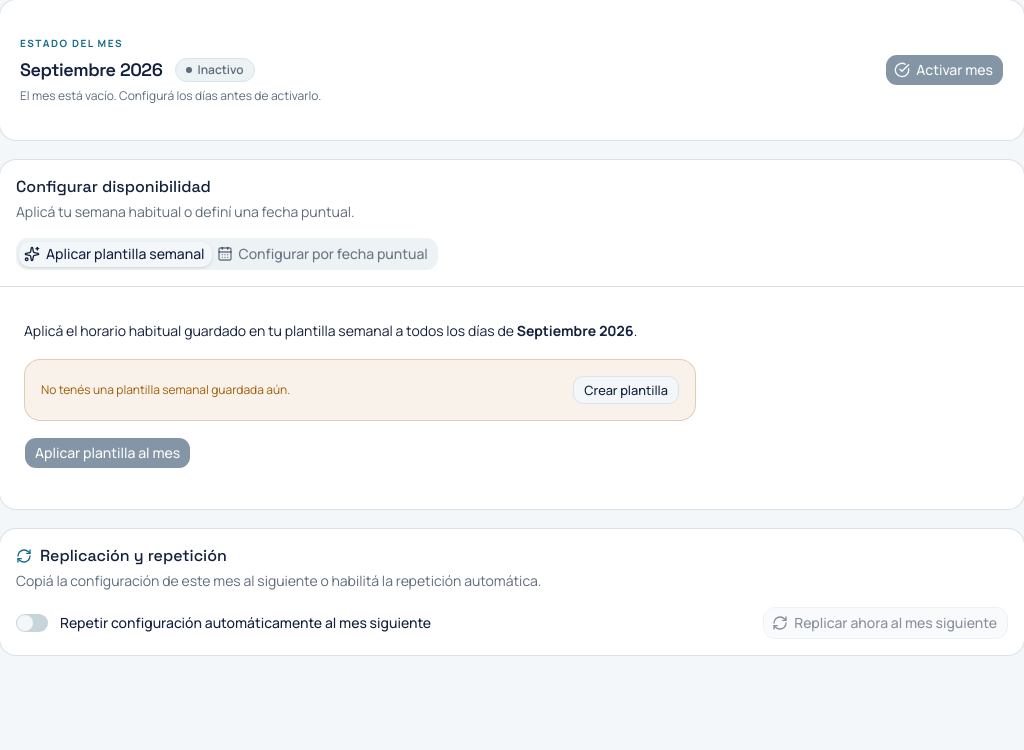
MonthConfigurator Component › keeps the date mutation disabled while gaps are invalid
Click the tab "Configurar por fecha puntual". click: (323, 254)
box: [212,242,435,267]
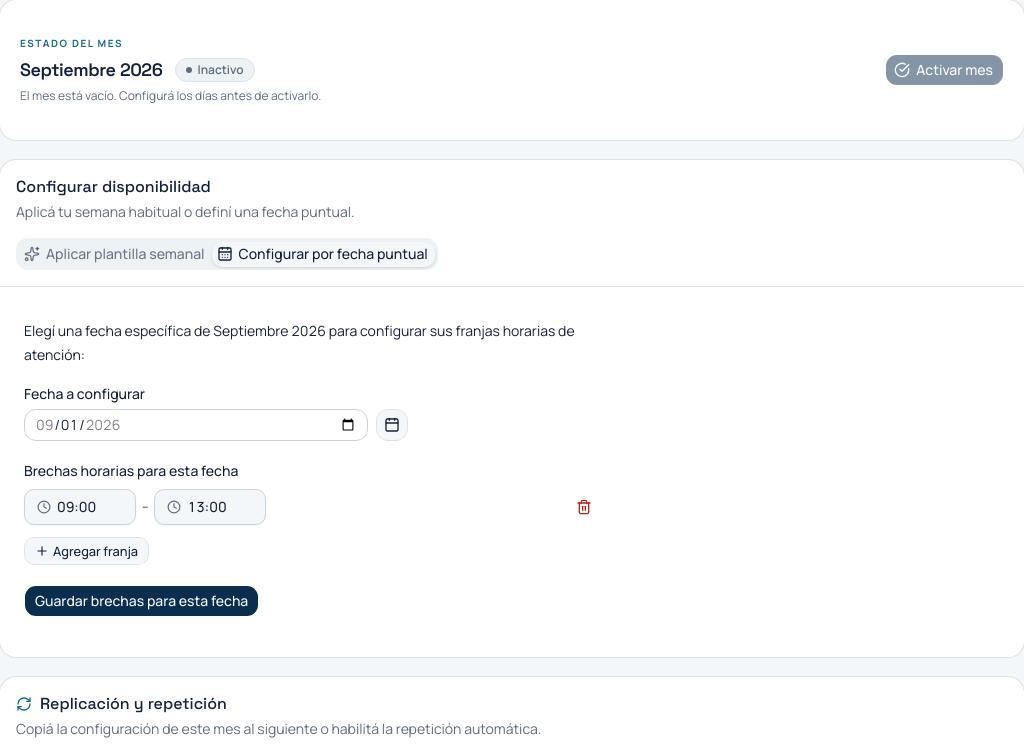
Replace the text in the field named "Brecha 1: Hora de inicio" with "14:00". click: (80, 507)
box: [24,489,136,525]
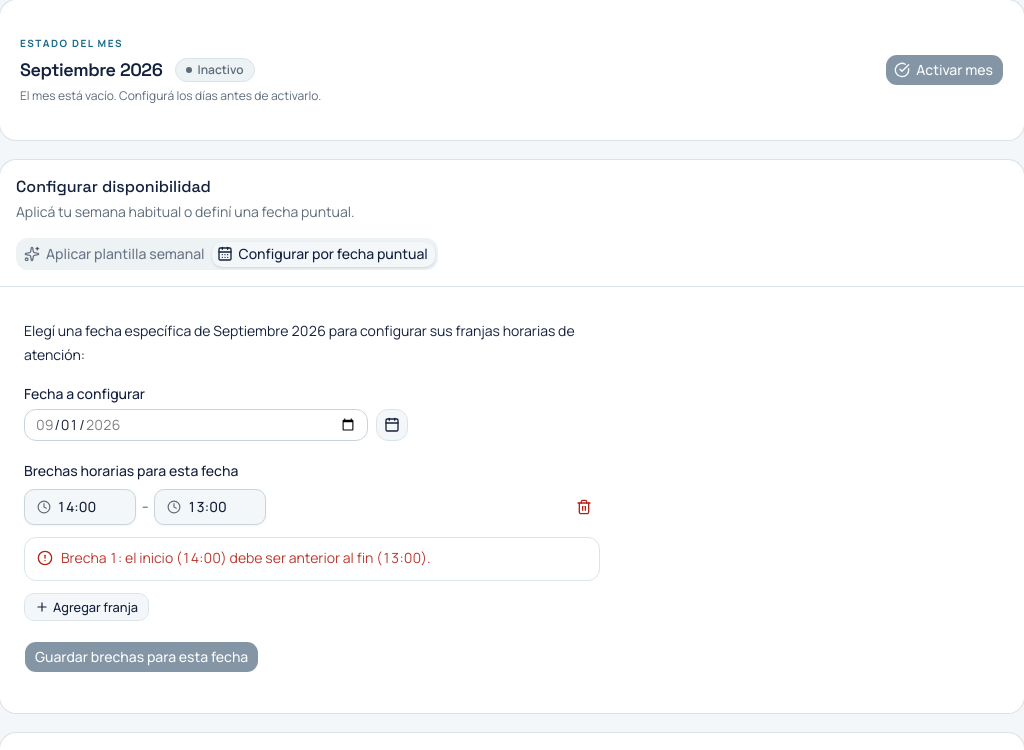
expect the button "Guardar brechas para esta fecha" is disabled: met, box [24,641,259,673]
expect the message shows "debe ser anterior": met, box [61,548,431,567]
